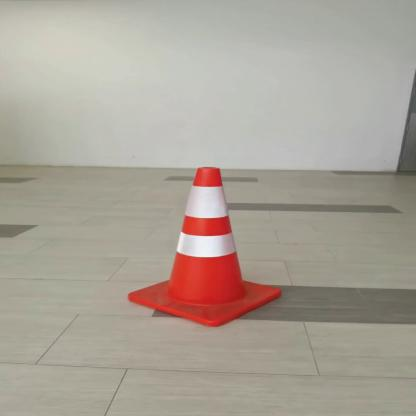cone: (119, 162, 285, 328)
